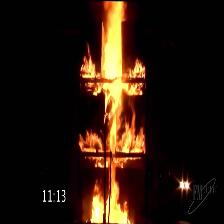fire: (92, 3, 133, 221)
